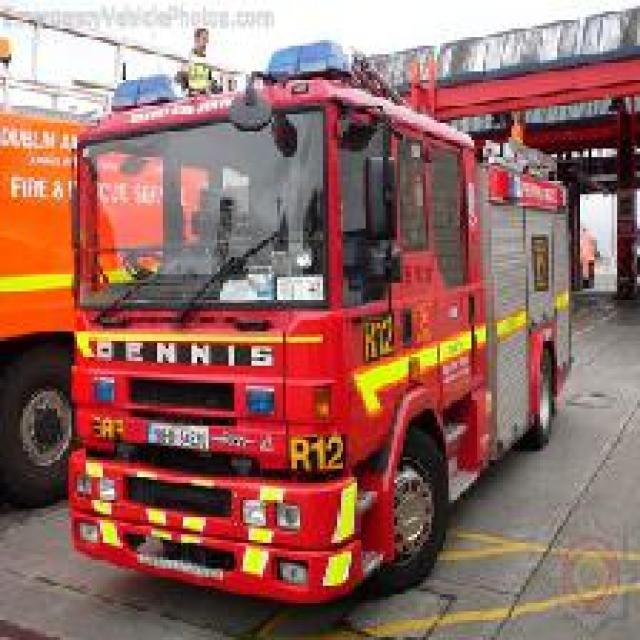emergency: (62, 38, 578, 606)
